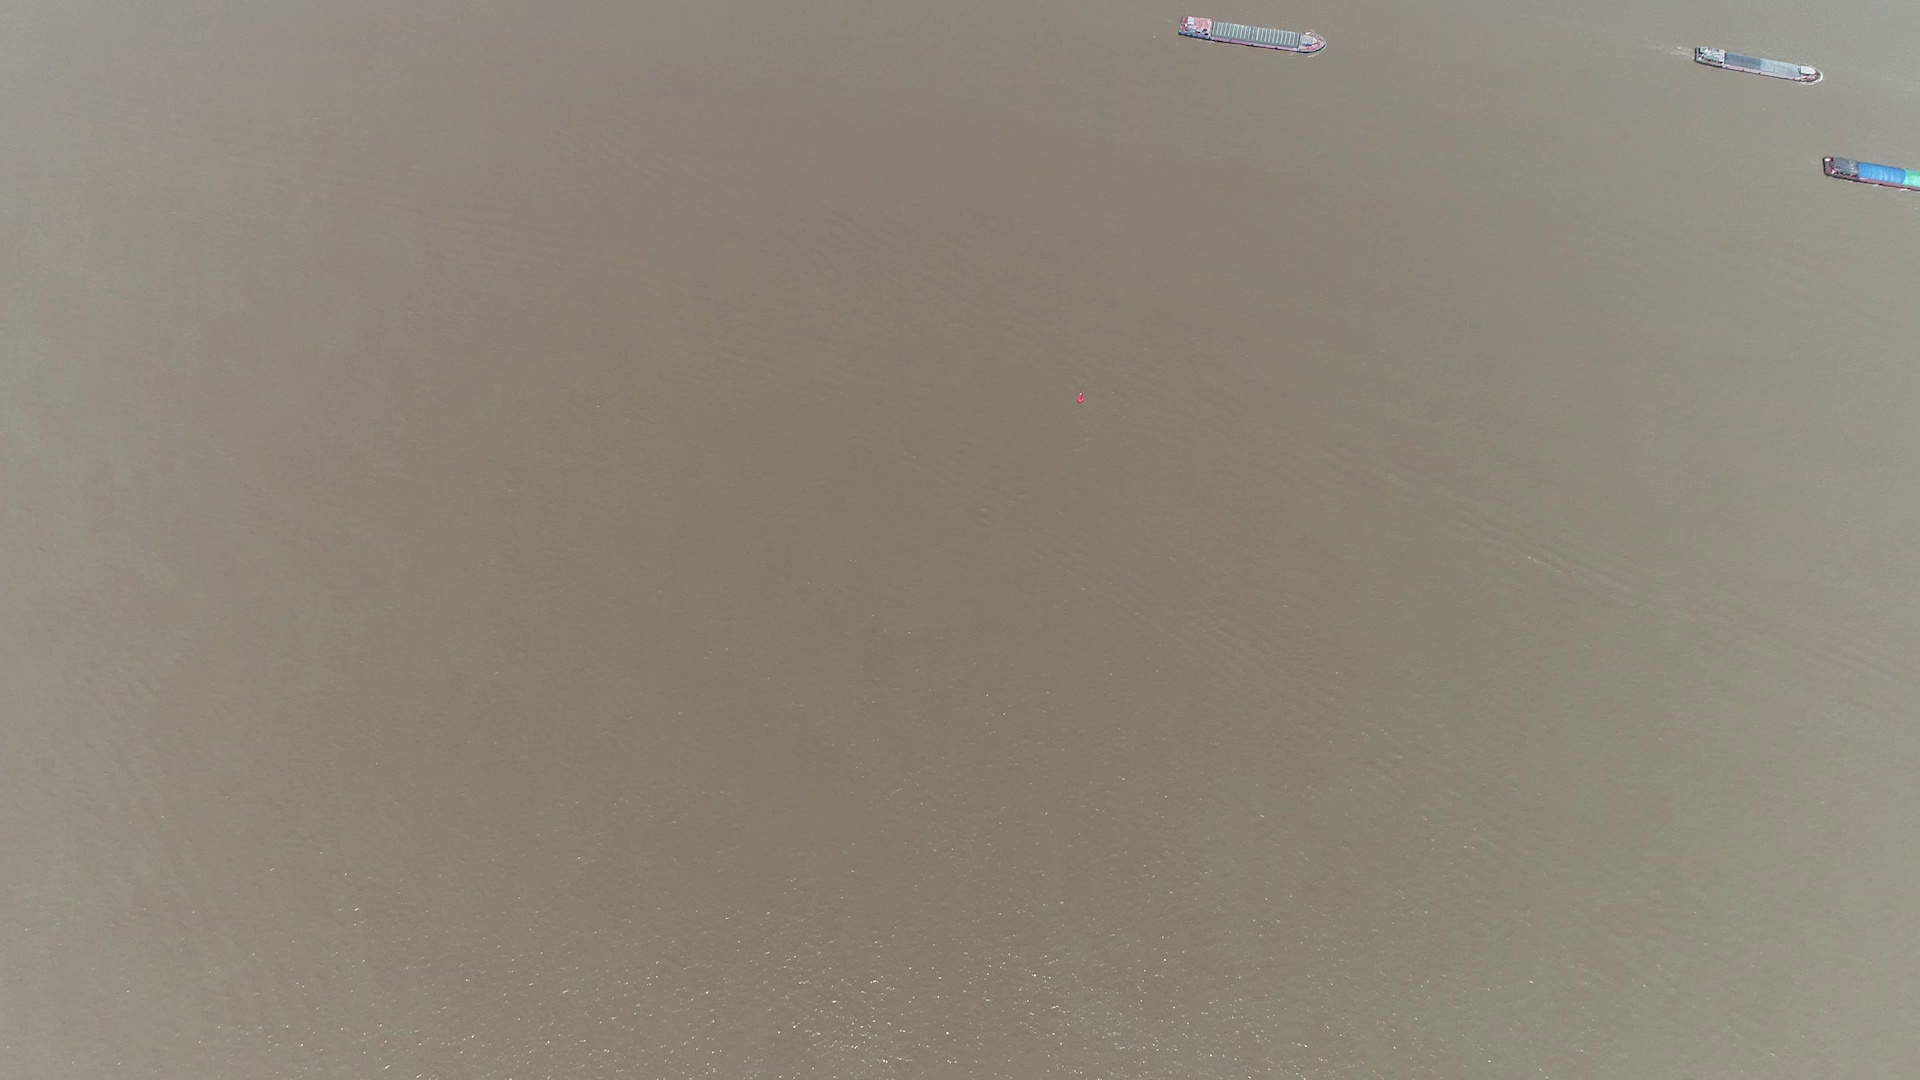ship: (1180, 17, 1327, 57), (1692, 44, 1820, 84), (1824, 156, 1920, 190)
